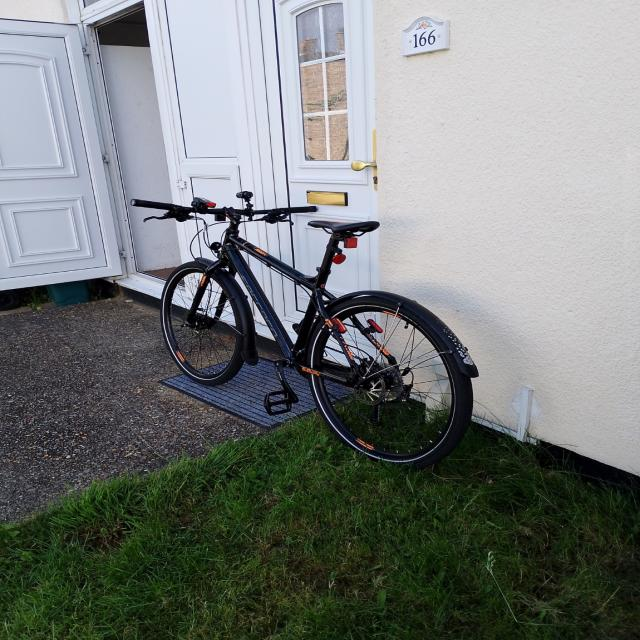bicycle: (130, 190, 479, 469)
